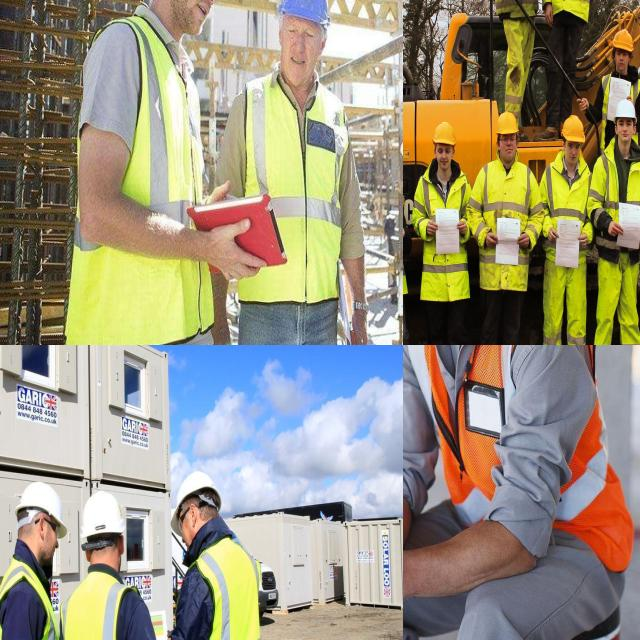No_Glasses: (282, 17, 321, 46)
face_nomask: (282, 13, 322, 88), (169, 0, 222, 40), (42, 519, 64, 569), (432, 144, 459, 172), (496, 135, 518, 166), (613, 115, 637, 143), (560, 140, 584, 160)
glasses: (501, 136, 517, 146)
hand_noglove: (200, 215, 268, 289), (344, 296, 378, 345), (453, 218, 470, 245), (423, 215, 439, 241), (519, 228, 532, 259), (482, 228, 498, 253), (602, 222, 626, 238), (546, 222, 562, 246), (575, 232, 590, 251), (403, 224, 406, 246)
head_helmet: (170, 469, 222, 534), (16, 482, 70, 540), (80, 490, 124, 537), (277, 0, 331, 26), (560, 115, 585, 143), (613, 98, 637, 127), (432, 121, 456, 146), (496, 110, 519, 136), (611, 29, 634, 53)
person: (403, 345, 623, 640), (72, 0, 232, 345), (235, 0, 348, 345), (165, 471, 265, 640), (470, 109, 539, 345), (62, 490, 167, 640), (412, 122, 473, 345), (538, 114, 591, 345), (590, 102, 640, 345), (0, 481, 64, 640), (536, 0, 603, 141), (482, 0, 542, 125), (403, 152, 421, 345), (604, 30, 640, 116)
vest: (403, 345, 621, 560), (82, 26, 213, 344), (231, 78, 351, 317), (169, 537, 266, 640), (471, 158, 538, 295), (415, 173, 473, 301), (58, 569, 152, 640), (0, 555, 67, 640), (592, 144, 640, 250), (543, 150, 591, 250), (598, 73, 640, 123)
